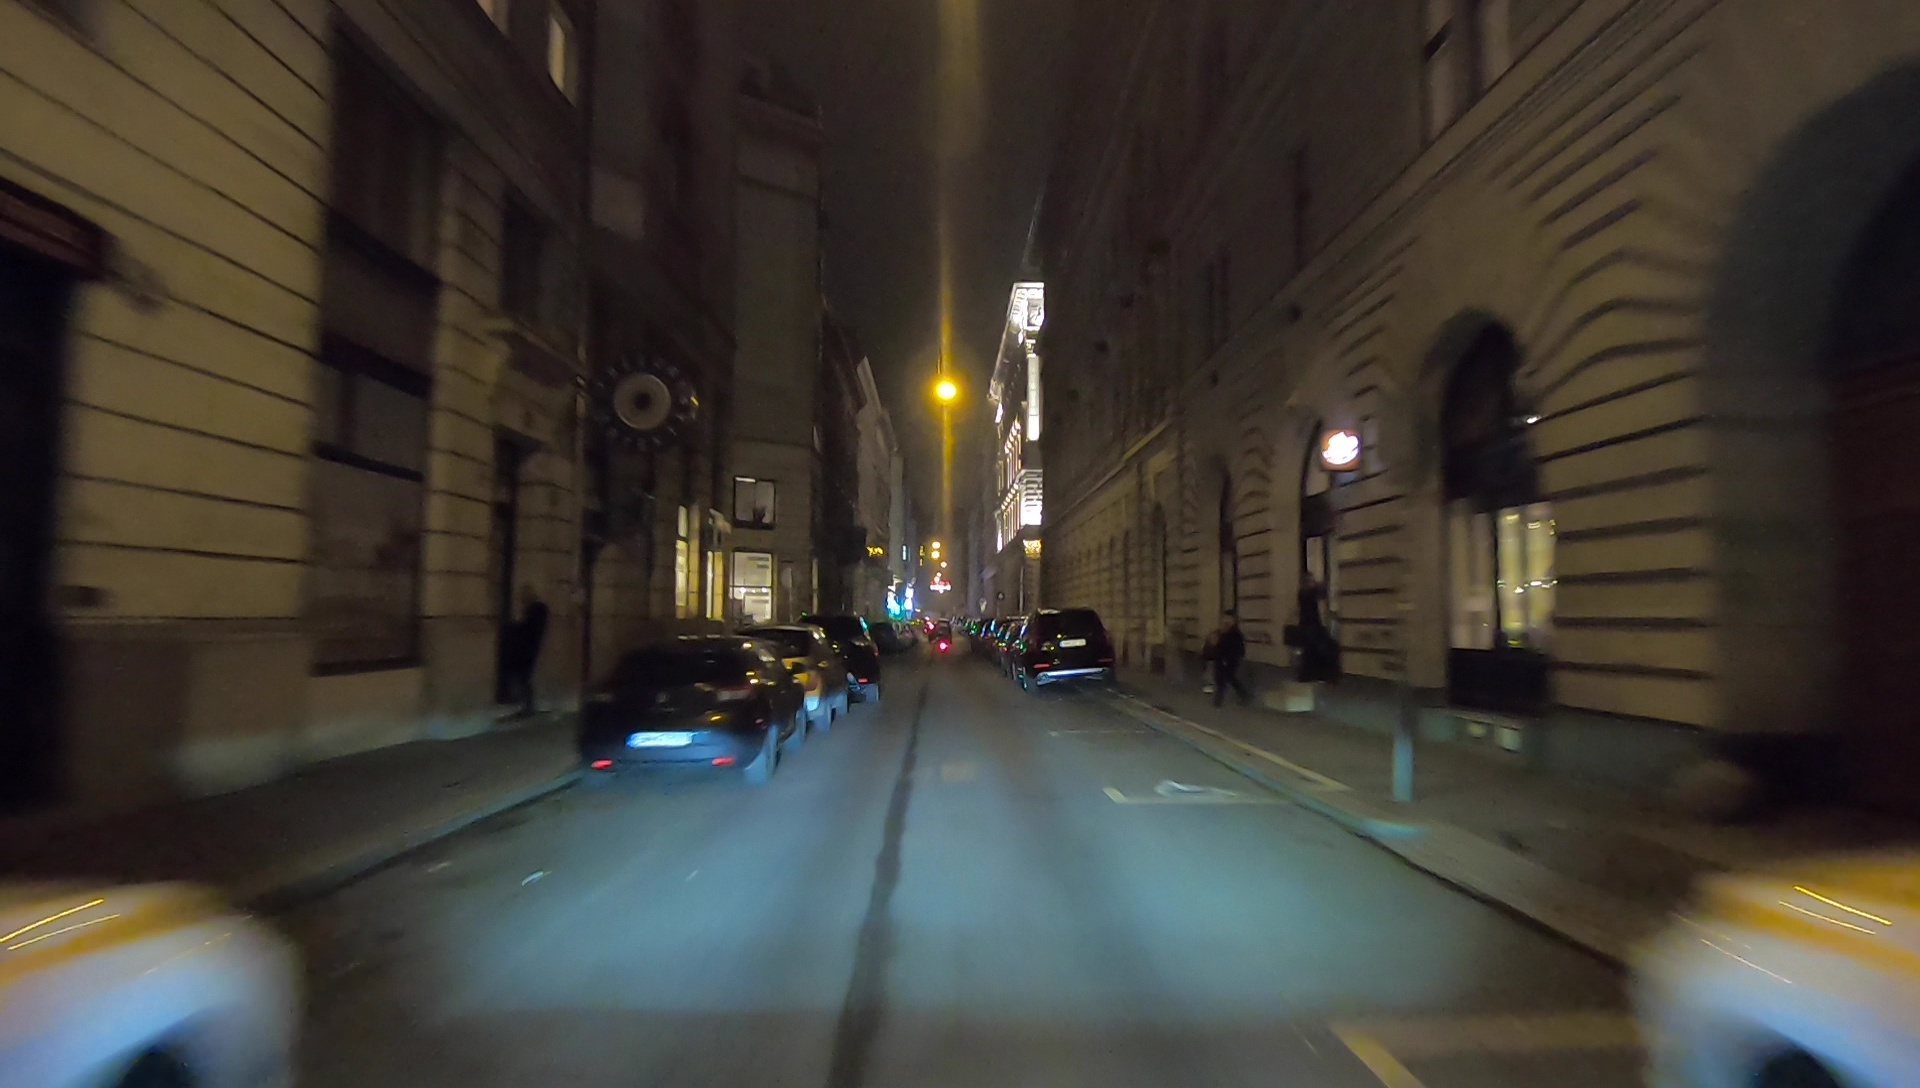person: (510, 589, 552, 726), (1212, 613, 1245, 710)
